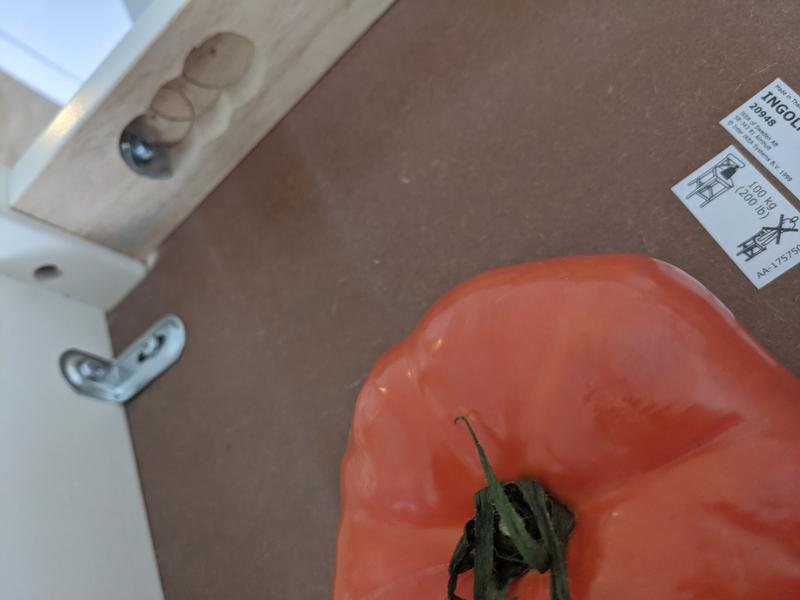tomato: (329, 253, 800, 600)
